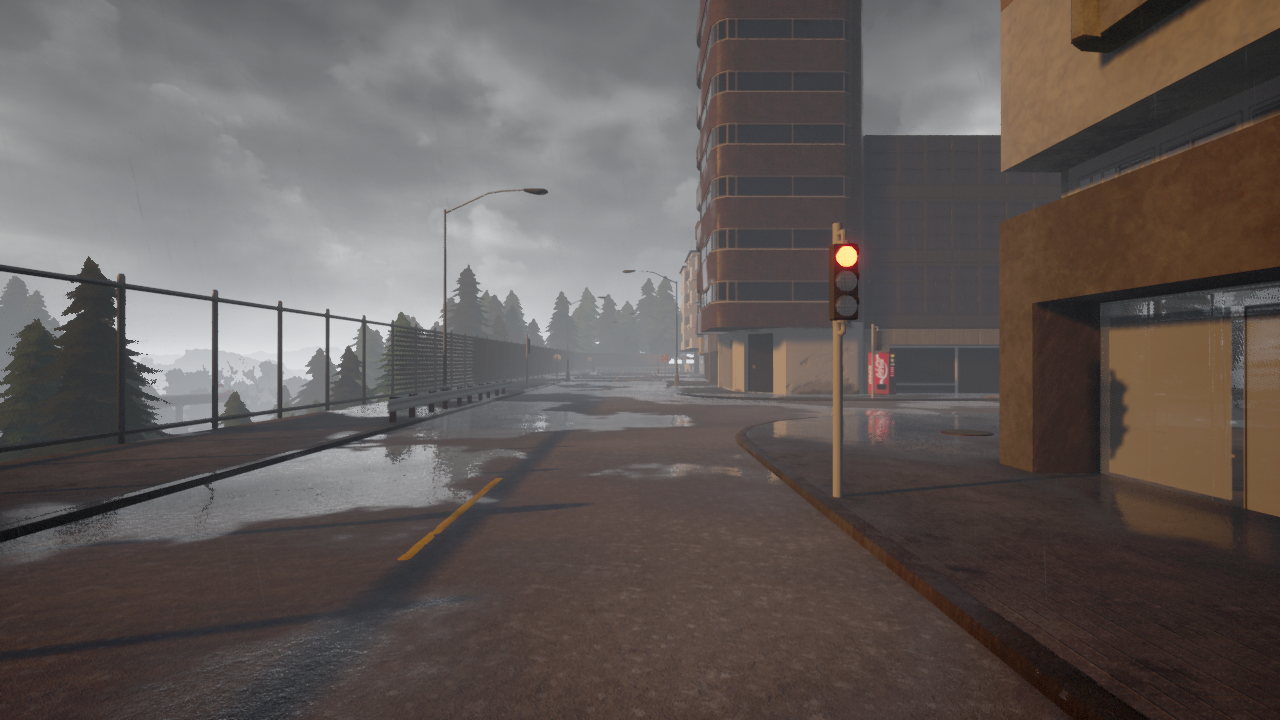red: (827, 243, 862, 325)
